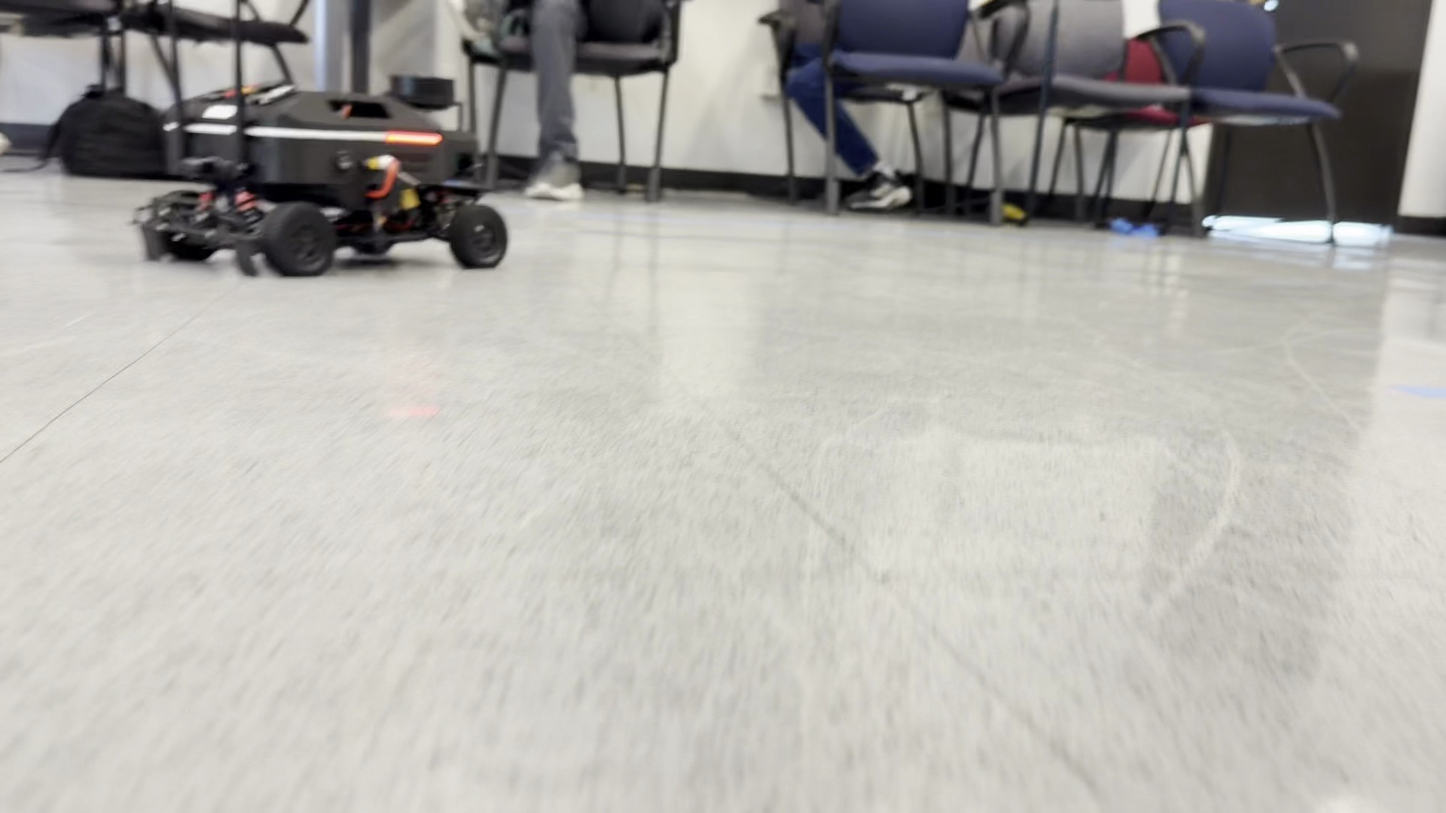racecar: (143, 78, 511, 277)
